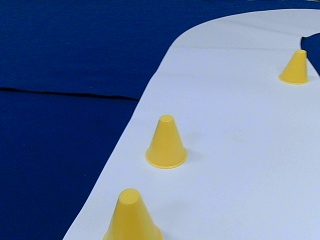cone: (105, 190, 163, 238), (146, 116, 188, 168), (279, 50, 308, 84)
